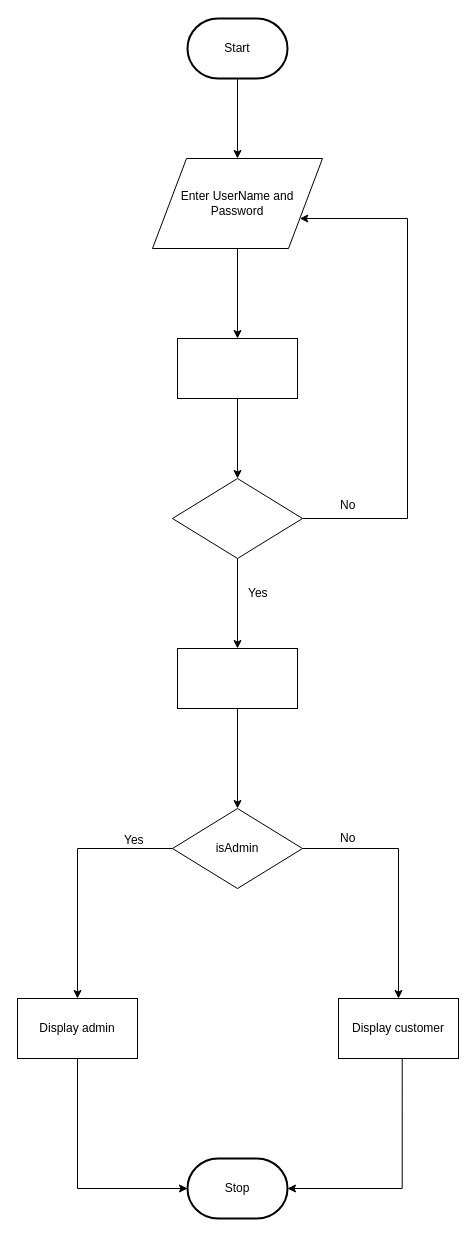
This 476x1236 diagram has some shape labels left out. Each missing label, with the box of its shape:
Check user level: (176, 648, 298, 708)
Process: (176, 338, 298, 398)
Sucess: (172, 478, 302, 558)
